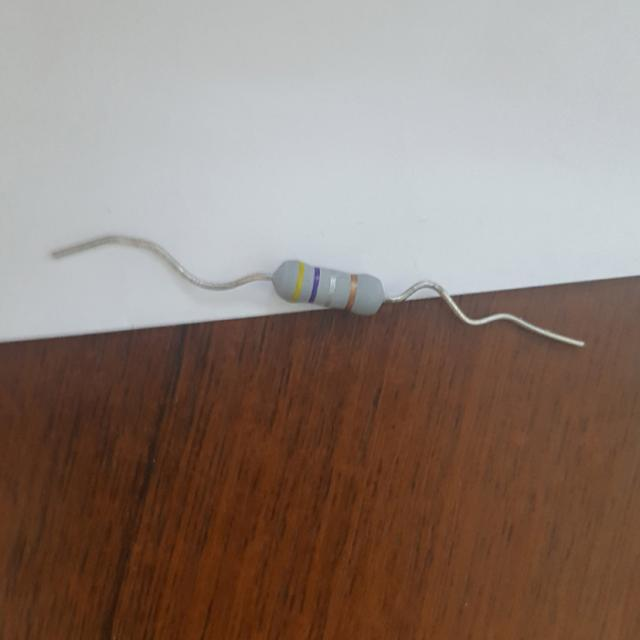Resistor Carbon-Film: (265, 254, 391, 321)
